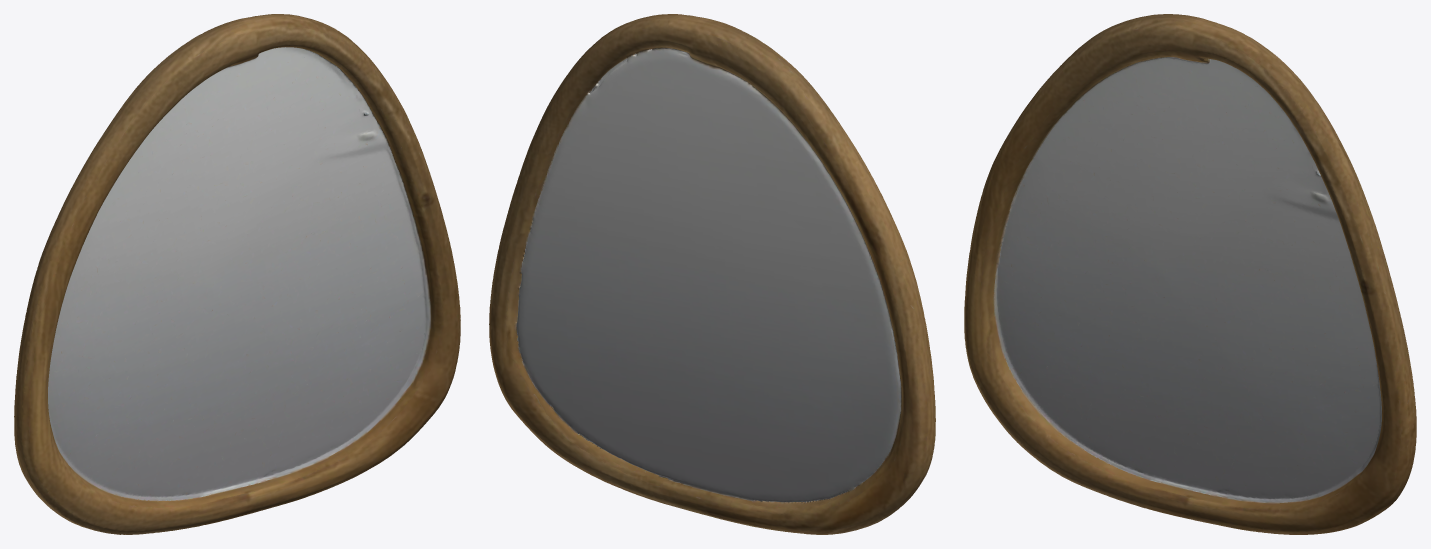
The model's file is organic-wood-mirror.glb.
3 views of the same model, side by side, from view 1: azimuth 30°, elevation 25°; view 2: azimuth 150°, elevation 25°; view 3: azimuth 330°, elevation 25° (orthographic).
Visible parts, largest first — view 1: world; view 2: world; view 3: world.
Boxes of the visible parts, x1,y1,x2,y2 form: world: (14,14,460,534); world: (489,14,935,534); world: (964,14,1416,534).
Size of the model in its own units: 0.9406 by 1 by 0.0649.
1 material, 1 textured.
